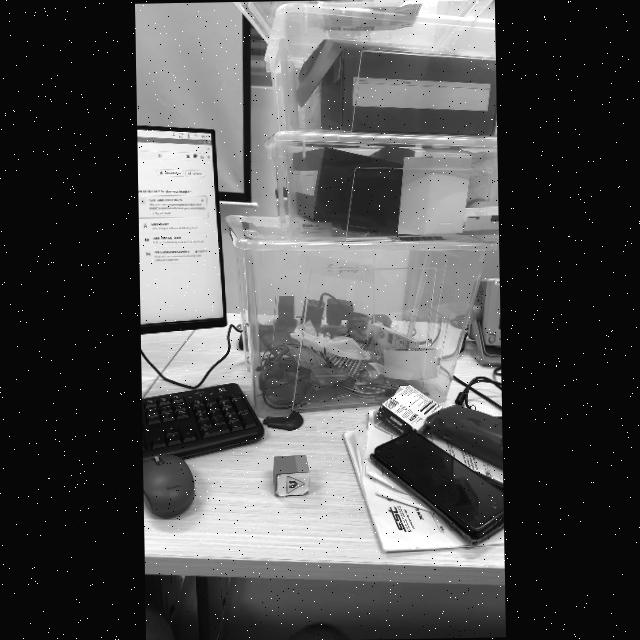Earthquake: (286, 475, 304, 494)
